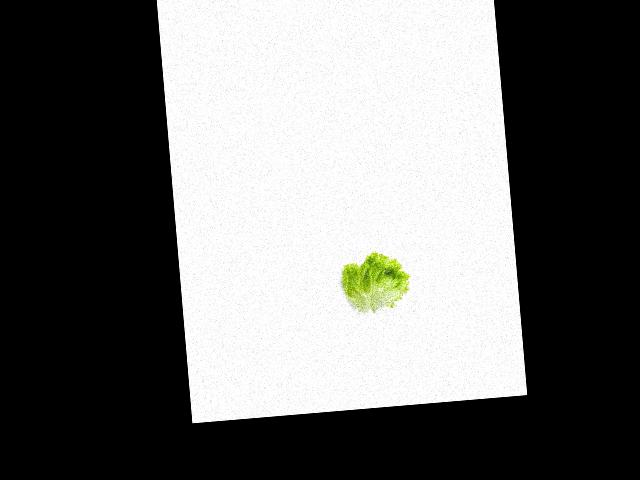lettuce: (334, 251, 414, 317)
